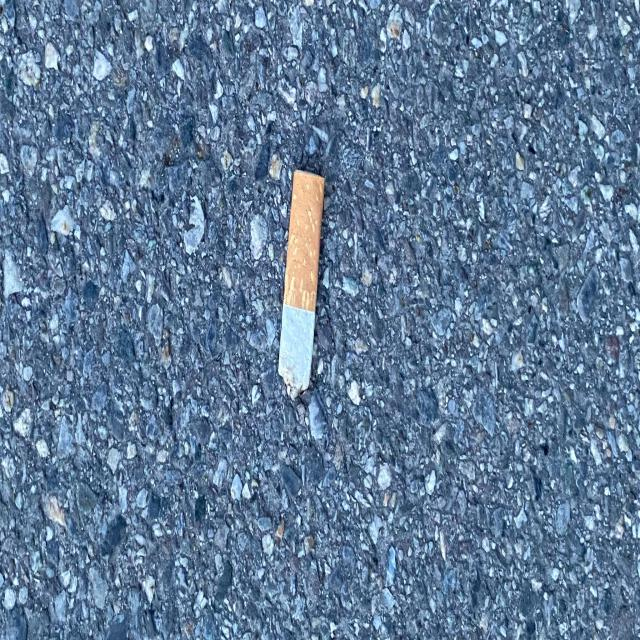other waste: (278, 167, 326, 403)
